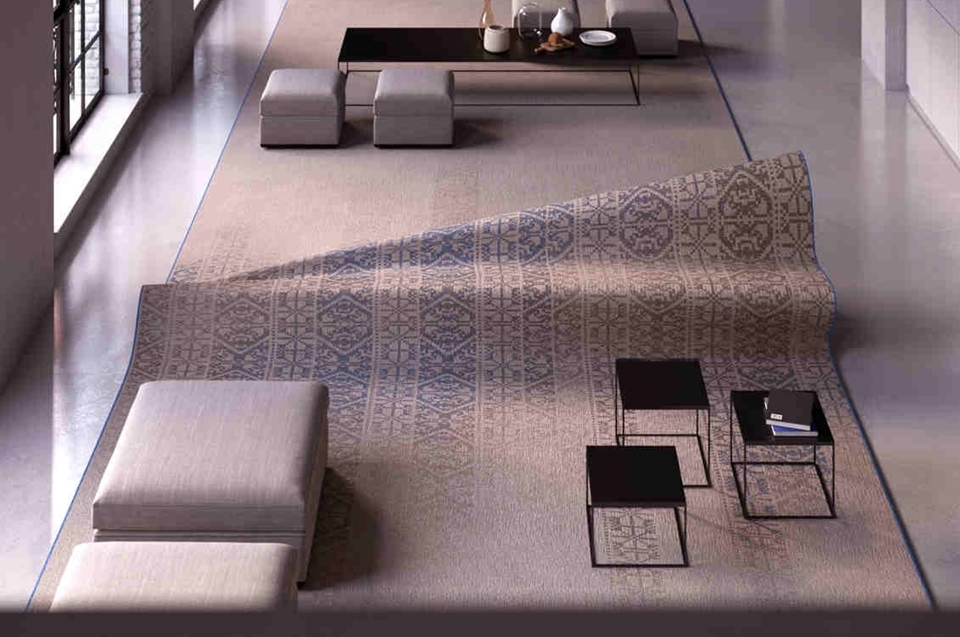chairs: (85, 380, 337, 586), (40, 540, 317, 612), (250, 67, 350, 149), (370, 66, 461, 152), (603, 1, 689, 56), (510, 1, 585, 35)
